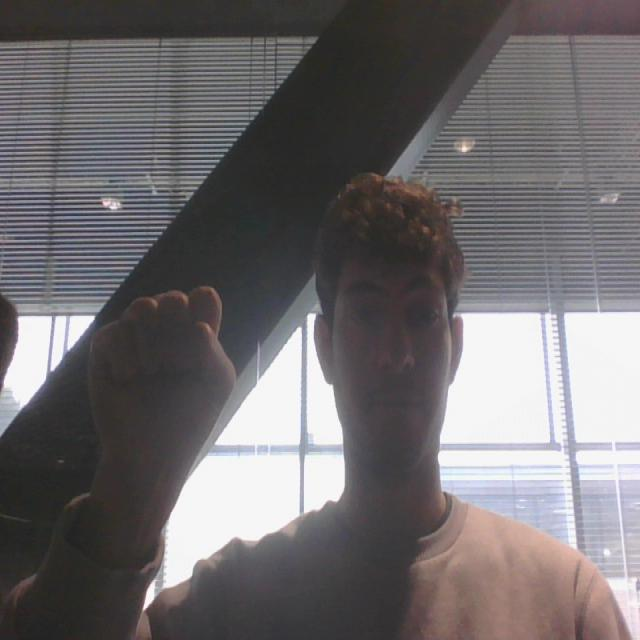stop: (82, 281, 238, 500)
